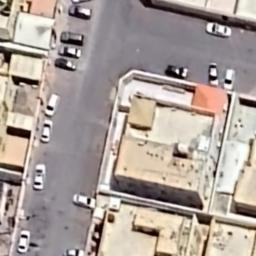SUV: (68, 6, 92, 20)
sedan: (206, 22, 232, 37), (73, 192, 96, 208), (166, 64, 188, 78), (55, 58, 78, 70), (18, 230, 30, 253), (58, 46, 82, 57), (34, 164, 44, 190), (41, 120, 52, 142), (208, 62, 218, 86), (64, 248, 84, 256)
van: (44, 94, 60, 116), (60, 31, 84, 45), (224, 69, 236, 90), (71, 0, 96, 2)
